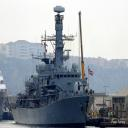Fragata: (10, 5, 97, 125)
